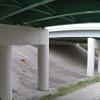Bridge: (2, 2, 99, 74)
